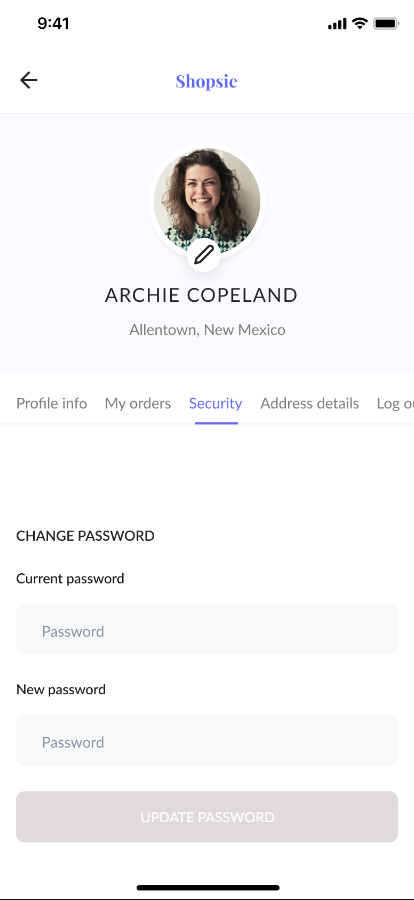Input: (14, 711, 401, 771), (14, 601, 401, 657)
